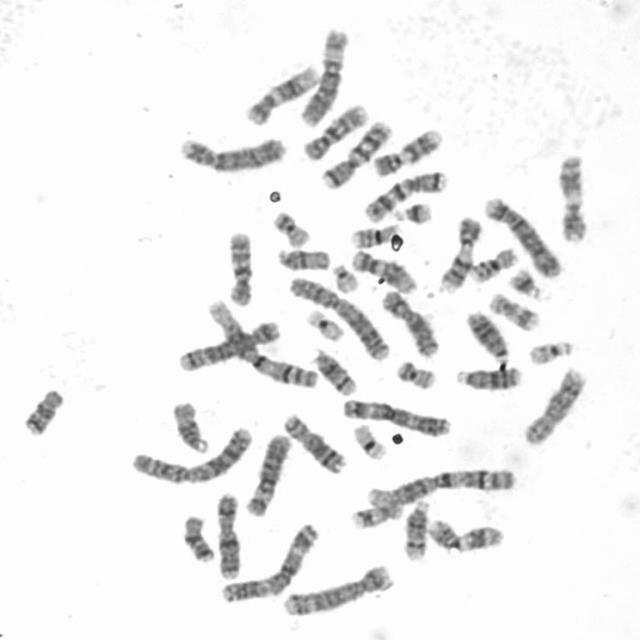A1: (202, 294, 319, 390), (366, 462, 518, 509)
A2: (286, 272, 393, 362), (128, 421, 256, 487)
A3: (216, 518, 322, 604), (338, 394, 453, 438)
B4: (480, 192, 563, 280), (174, 130, 289, 174)
B5: (278, 559, 396, 618), (172, 315, 282, 373)
C10: (298, 98, 370, 162), (223, 226, 256, 307)
C11: (555, 150, 591, 245), (423, 514, 507, 554)
C12: (241, 59, 322, 127), (347, 244, 420, 294)
C6: (296, 22, 352, 128), (241, 429, 293, 518)
C7: (317, 115, 396, 191), (359, 165, 450, 223)
C8: (519, 362, 589, 447), (278, 408, 347, 475)
C9: (370, 124, 445, 178), (436, 212, 484, 294)
D13: (461, 305, 512, 363), (452, 361, 524, 392)
D14: (308, 342, 360, 397), (400, 494, 433, 562)
D15: (168, 396, 212, 455), (273, 242, 332, 272)
E16: (466, 243, 522, 284), (347, 219, 402, 249)
E17: (485, 288, 543, 332), (347, 497, 405, 531)
E18: (20, 383, 67, 438), (178, 510, 218, 564)
F19: (349, 418, 390, 462), (301, 304, 348, 342)
F20: (269, 205, 313, 248), (392, 355, 439, 391)
G21: (504, 263, 547, 302), (390, 197, 434, 225)
G22: (524, 334, 575, 367), (328, 258, 361, 295)
X: (378, 284, 442, 359), (212, 487, 244, 580)
